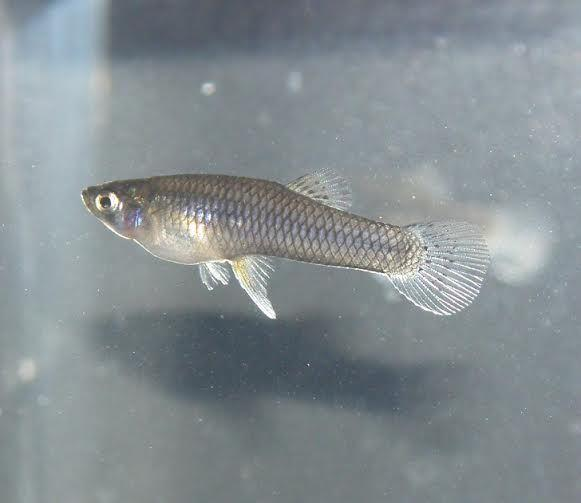Mosquito Fish: (85, 171, 488, 323)
